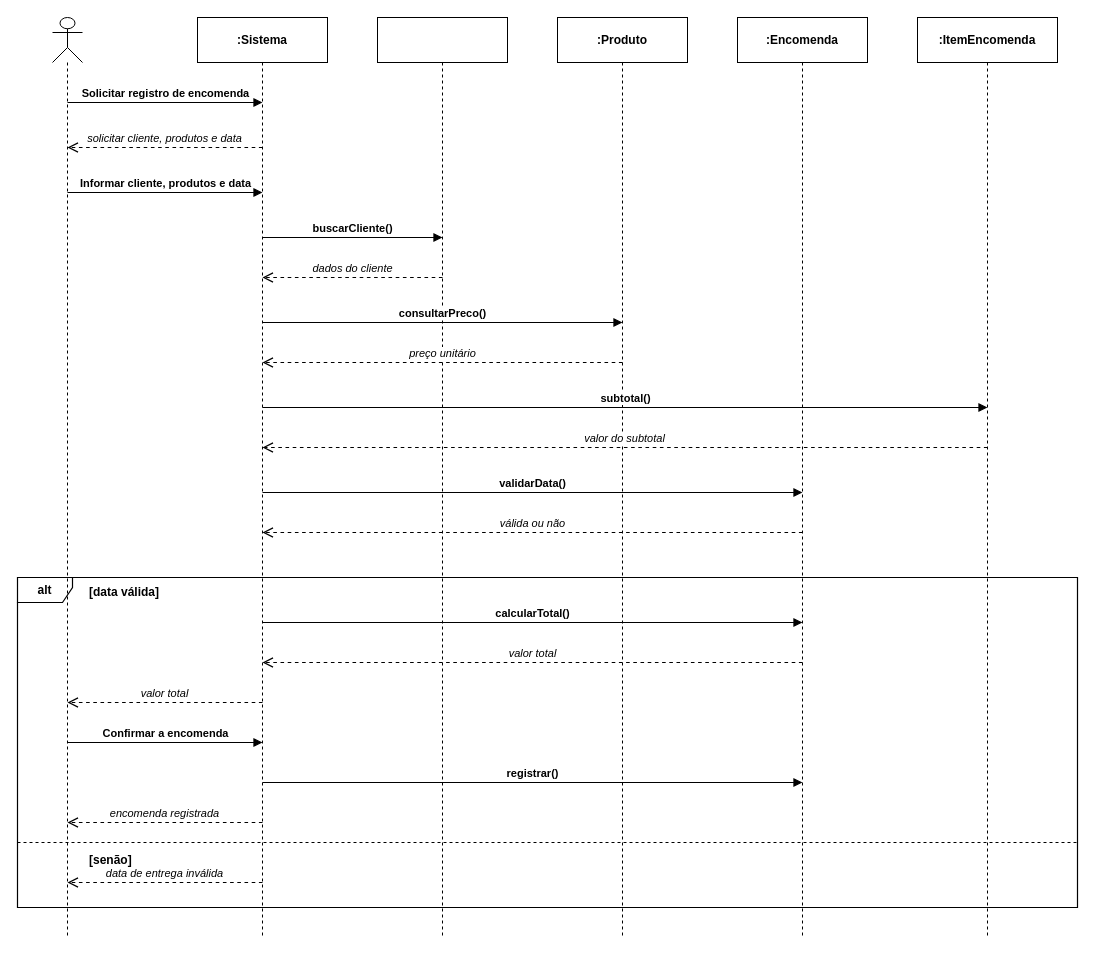
Some shapes in this 1096 by 955 pixel diagram are drawn without their labels. Here are the shapes that lost their labels. From the top down, the box of each, then its label:
(52, 16, 82, 938): Confeiteira
(376, 16, 508, 938): :Cliente
